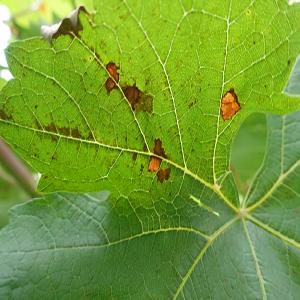Folha: (0, 0, 299, 298)
Fungo: (40, 5, 170, 184), (105, 59, 153, 115), (40, 4, 95, 44), (121, 82, 153, 114), (147, 136, 167, 172), (220, 87, 241, 121), (104, 60, 120, 92), (40, 21, 62, 44), (134, 92, 152, 114), (156, 167, 170, 184), (147, 156, 161, 172), (104, 76, 115, 92), (139, 163, 144, 176), (142, 142, 148, 152), (131, 152, 137, 160)
